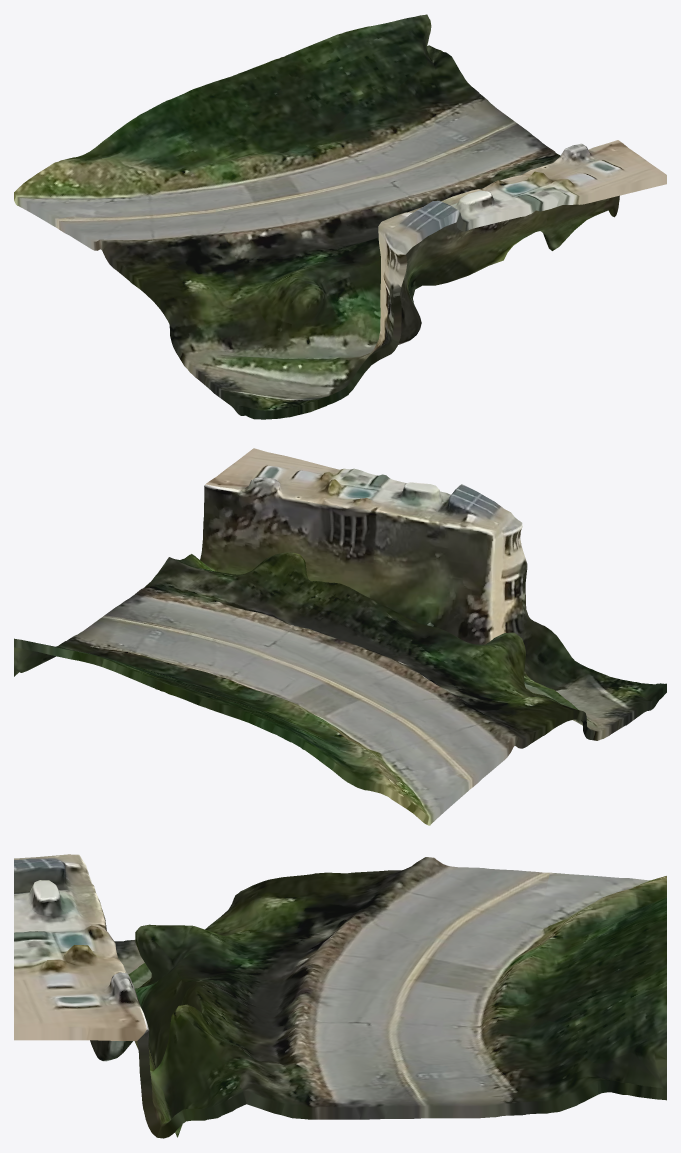
File: z20-167756-405196-h0-yup-uvflip-v3-world.glb
The picture shows the model from 3 angles, top to bottom: view 1: azimuth 30°, elevation 25°; view 2: azimuth 150°, elevation 25°; view 3: azimuth 270°, elevation 25°; orthographic projection. The views are drawn at different scales.
Size of the model in its own units: 30.16 by 11.68 by 30.32.
1 material, 1 textured.
